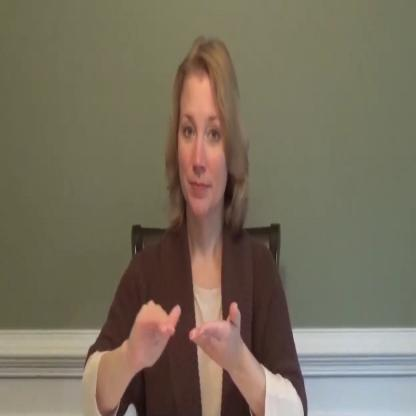ExcuseMe: (78, 28, 307, 416)
